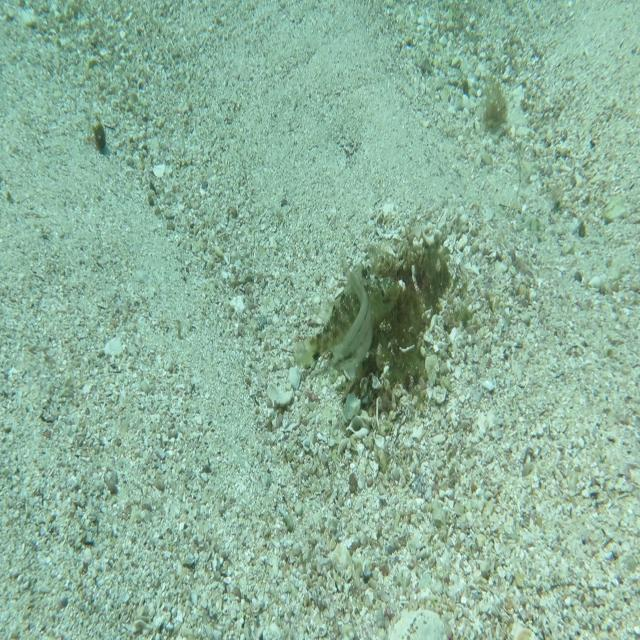LF: (292, 258, 402, 371)
female: (327, 264, 375, 372)
nest: (338, 226, 454, 420)
